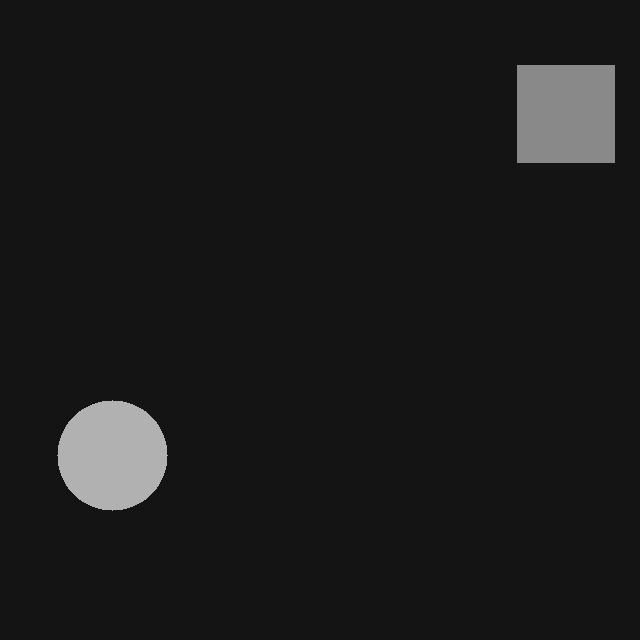circle: (57, 400, 167, 510)
square: (517, 65, 614, 162)
